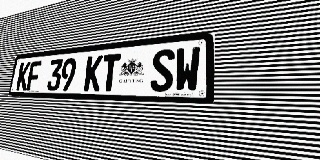3: (46, 59, 63, 91)
9: (59, 57, 77, 91)
F: (26, 61, 42, 91)
K: (83, 55, 103, 91), (16, 62, 31, 90)
S: (150, 48, 175, 92)
T: (100, 53, 121, 91)
W: (174, 46, 201, 92)
